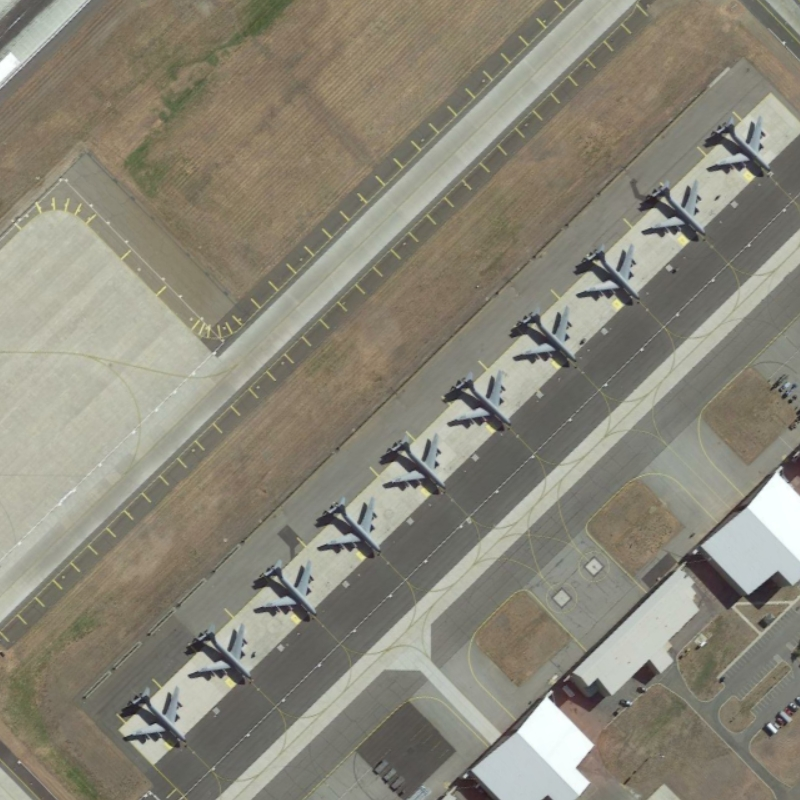A14: (638, 172, 715, 250), (699, 111, 778, 184), (448, 364, 520, 440), (570, 240, 645, 312), (119, 679, 191, 753), (249, 559, 328, 626), (317, 494, 389, 566), (383, 431, 454, 503), (515, 308, 587, 375), (189, 619, 254, 687)
